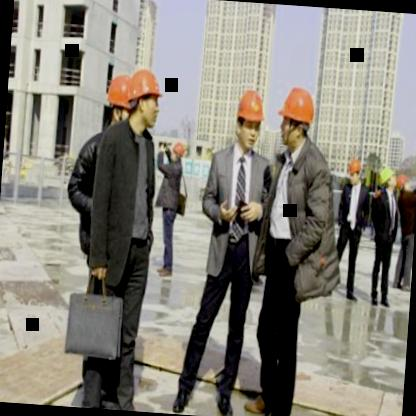helmet: (275, 82, 318, 154), (121, 64, 164, 132), (233, 86, 266, 152), (103, 72, 133, 134), (374, 166, 398, 194), (346, 155, 366, 188), (169, 138, 188, 166), (396, 169, 414, 196)
